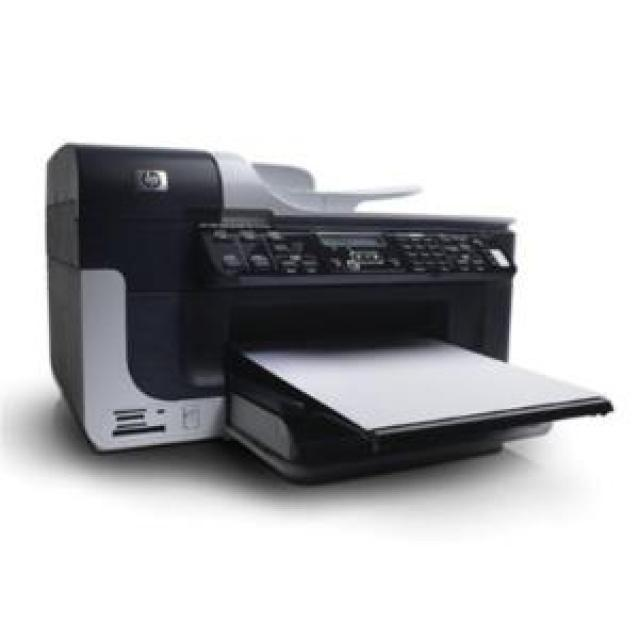Printer: (45, 142, 613, 485)
